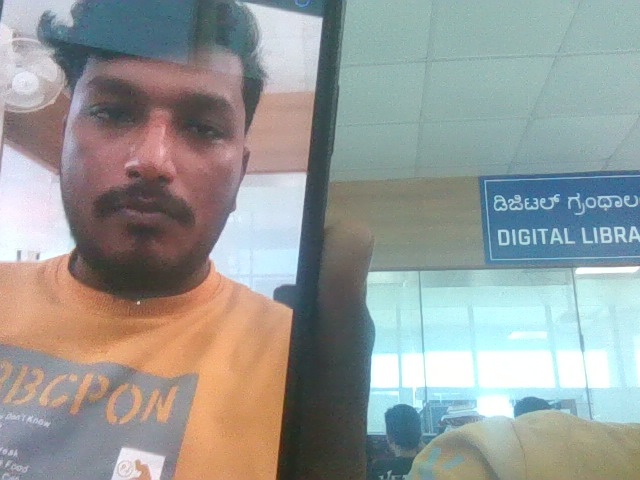fake: (30, 0, 274, 346)
